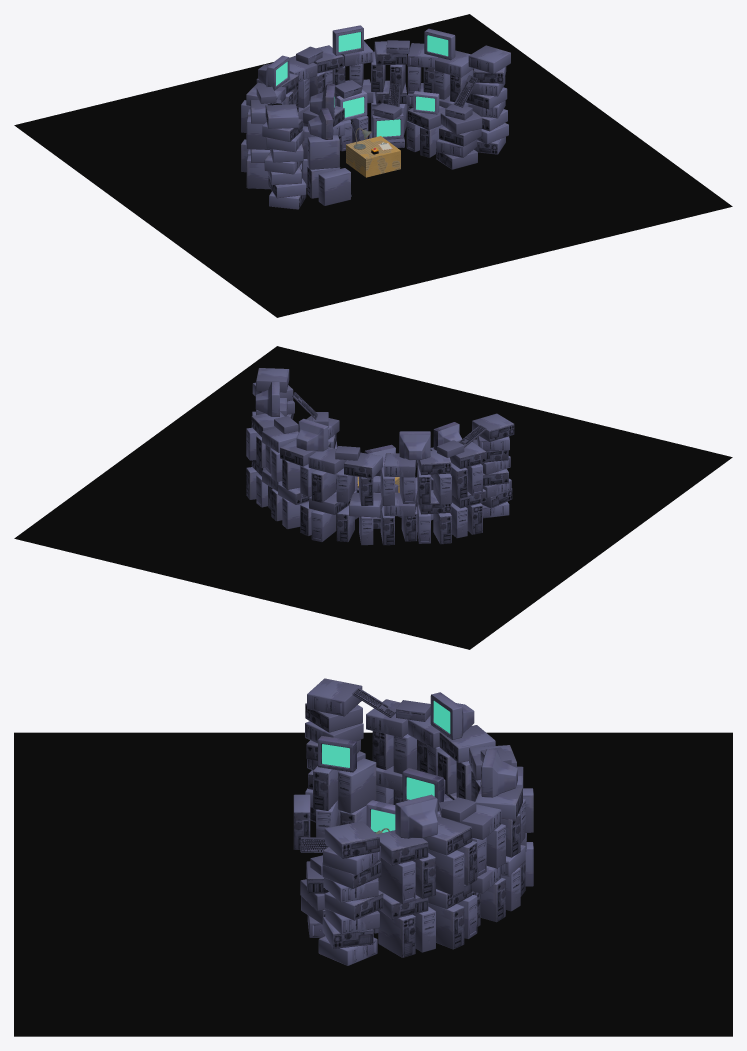
File: old_computers_compressed.glb
3 renders of one model, top to bottom at view 1: azimuth 30°, elevation 25°; view 2: azimuth 150°, elevation 25°; view 3: azimuth 270°, elevation 25°, orthographic. The views are drawn at different scales.
Parts seen in each view (by area): view 1: Plane_5, CardboardBox, PC 01.011_30, PC 01.010_29, PC 02.026_76, Screen D.003_109, Screen D.004_110, PC 02.012_38, Screen D.002_108, Screen D.001_105, PC 01.052_97, Screen C.001_102 (+15 smaller); view 2: Plane_5, Screen D.003_109, Screen D.002_108, PC 02.012_38, PC 01.032_64, PC 02.021_61, PC 02.016_47, PC 01.033_65, PC 01.031_63, PC 02.026_76, Screen D.004_110, PC 02.022_66 (+14 smaller); view 3: Plane_5, PC 01.005_17, Screen D.004_110, PC 02.026_76, PC 02.012_38, Screen D.002_108, PC 02.027_78, PC 02.032_90, Screen D.003_109, PC 01.052_97, Screen B.002_107, PC 01.047_89 (+36 smaller).
Part boxes in pixels (left/top/right/bottom): Plane_5: left=14, top=14, right=732, bottom=317; CardboardBox: left=346, top=136, right=400, bottom=177; PC 01.011_30: left=318, top=168, right=350, bottom=205; PC 01.010_29: left=307, top=135, right=339, bottom=169; PC 02.026_76: left=468, top=45, right=510, bottom=73; Screen D.003_109: left=332, top=25, right=363, bottom=55; Screen D.004_110: left=424, top=28, right=455, bottom=60; PC 02.012_38: left=265, top=104, right=298, bottom=128; Screen D.002_108: left=258, top=55, right=289, bottom=90; Screen D.001_105: left=372, top=113, right=403, bottom=139; PC 01.052_97: left=435, top=50, right=473, bottom=77; Screen C.001_102: left=336, top=90, right=367, bottom=121; Plane_5: left=14, top=346, right=732, bottom=649; Screen D.003_109: left=296, top=418, right=328, bottom=451; Screen D.002_108: left=399, top=431, right=430, bottom=460; PC 02.012_38: left=472, top=413, right=514, bottom=441; PC 01.032_64: left=344, top=452, right=382, bottom=478; PC 02.021_61: left=311, top=470, right=336, bottom=502; PC 02.016_47: left=311, top=510, right=336, bottom=541; PC 01.033_65: left=308, top=447, right=346, bottom=474; PC 01.031_63: left=384, top=453, right=416, bottom=477; PC 02.026_76: left=256, top=368, right=289, bottom=392; Screen D.004_110: left=255, top=382, right=279, bottom=416; PC 02.022_66: left=417, top=450, right=451, bottom=474; Plane_5: left=14, top=732, right=732, bottom=1036; PC 01.005_17: left=338, top=758, right=376, bottom=813; Screen D.004_110: left=395, top=794, right=437, bottom=838; PC 02.026_76: left=324, top=821, right=379, bottom=858; PC 02.012_38: left=307, top=678, right=362, bottom=716; Screen D.002_108: left=430, top=692, right=474, bottom=739; PC 02.027_78: left=378, top=910, right=415, bottom=957; PC 02.032_90: left=378, top=857, right=415, bottom=904; Screen D.003_109: left=481, top=749, right=517, bottom=797; PC 01.052_97: left=377, top=830, right=428, bottom=865; Screen B.002_107: left=318, top=736, right=356, bottom=772; PC 01.047_89: left=428, top=849, right=464, bottom=895.
Size of the model in its own units: 26 by 6.52 by 26.
Materials: 12 (10 with a texture image).
